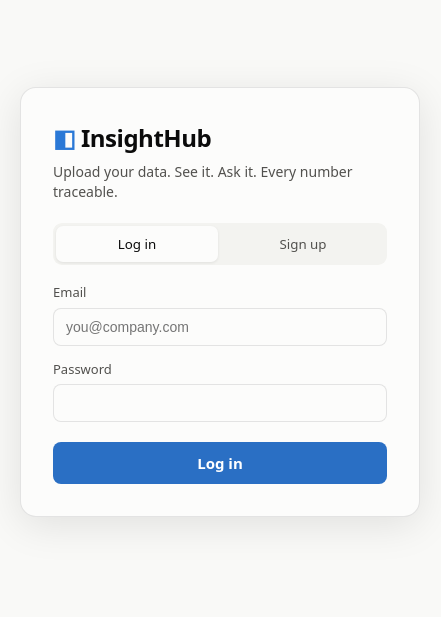
Test: Login › asks for a workspace name only when signing up
Expected: the field labelled "workspace" is not shown
Click the button "Sign up": (303, 244) [222,226,384,262]
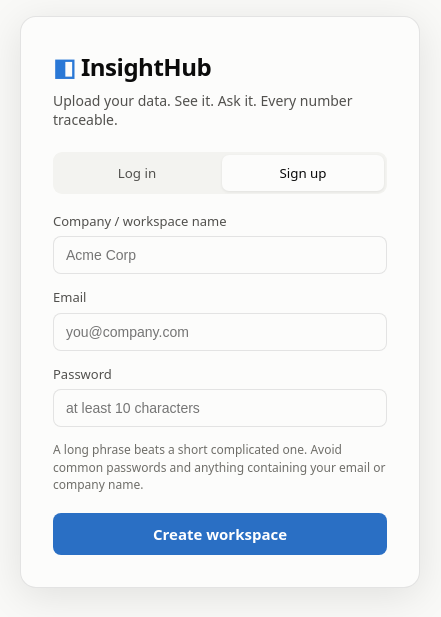
Now the field labelled "Company / workspace name" is shown, box [53,236,387,274]
